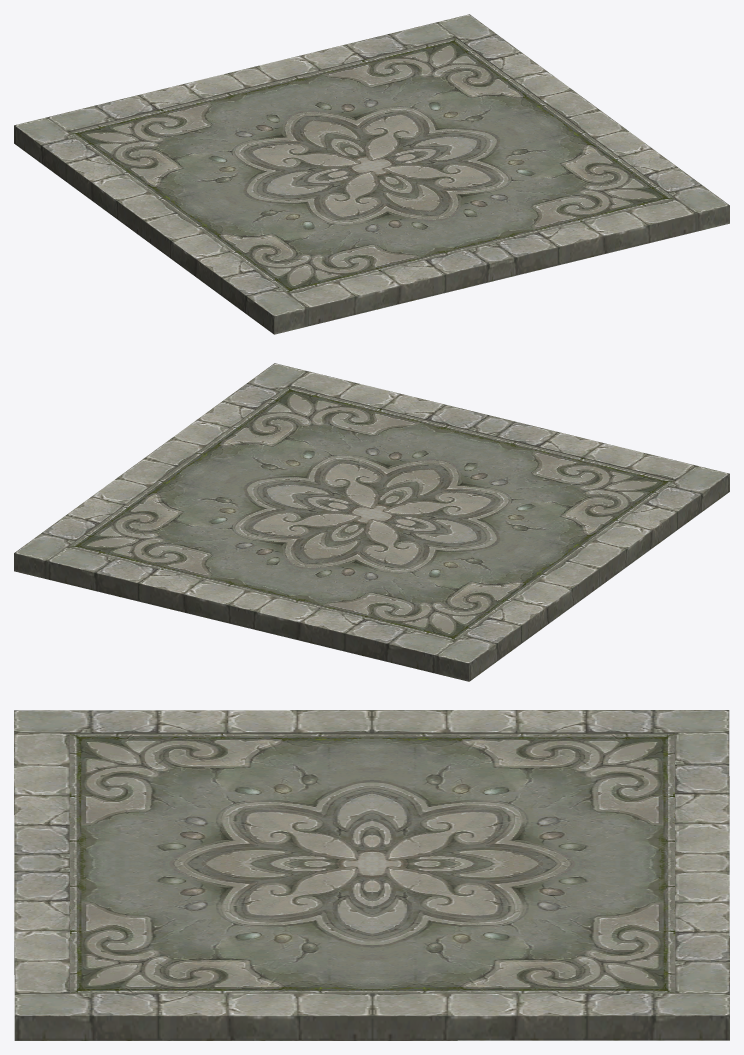
Rendered from Hangzhou_wj_018.FBX.
3 views of the same model, one above another, from view 1: azimuth 30°, elevation 25°; view 2: azimuth 150°, elevation 25°; view 3: azimuth 270°, elevation 25° (orthographic). The views are drawn at different scales.
Parts seen in each view (by area): view 1: DrawCall_0343; view 2: DrawCall_0343; view 3: DrawCall_0343.
Boxes of the visible parts, left/top/right/bottom form: DrawCall_0343: left=14, top=14, right=729, bottom=334; DrawCall_0343: left=14, top=363, right=729, bottom=681; DrawCall_0343: left=14, top=710, right=729, bottom=1040.
Bounding box in the file's own units: 136 × 5.36 × 135.
